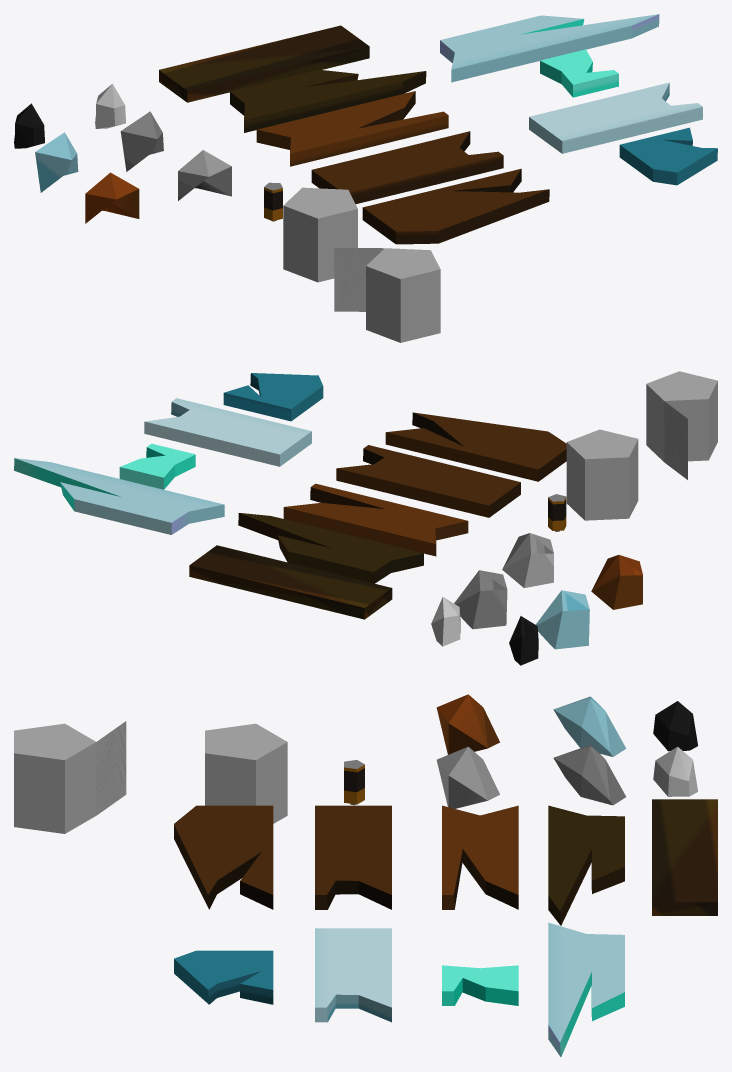
The model's file is Escombros.fbx.
The picture shows the model from 3 angles, top to bottom: view 1: azimuth 30°, elevation 25°; view 2: azimuth 150°, elevation 25°; view 3: azimuth 270°, elevation 25°; orthographic projection. The views are drawn at different scales.
Visible parts, largest first — view 1: Cylinder_001, Cube_003, Cube_004, Cube_008, Cube, Cube_001, Cube_002, Cube_006, Cylinder_002, Cube_005, Cube_007, Sphere_003 (+6 smaller); view 2: Cube_003, Cube_004, Cube_008, Cube, Cube_001, Cube_006, Cylinder_001, Cube_002, Cylinder_002, Cube_005, Sphere_004, Sphere_001 (+6 smaller); view 3: Cylinder_001, Cube_003, Cube_004, Cube, Cube_008, Cube_006, Cylinder_002, Cube_001, Cube_002, Cube_005, Cube_007, Sphere (+6 smaller).
Boxes of the visible parts, left/top/right/bottom form: Cylinder_001: left=334, top=248, right=440, bottom=342; Cube_003: left=362, top=168, right=549, bottom=244; Cube_004: left=159, top=25, right=369, bottom=102; Cube_008: left=440, top=14, right=659, bottom=82; Cube: left=311, top=131, right=503, bottom=203; Cube_001: left=256, top=91, right=448, bottom=166; Cube_002: left=230, top=69, right=426, bottom=132; Cube_006: left=529, top=82, right=702, bottom=153; Cylinder_002: left=283, top=187, right=357, bottom=282; Cube_005: left=619, top=127, right=717, bottom=185; Cube_007: left=540, top=49, right=618, bottom=97; Sphere_003: left=85, top=172, right=139, bottom=223; Cube_003: left=385, top=412, right=566, bottom=481; Cube_004: left=189, top=545, right=392, bottom=619; Cube_008: left=14, top=458, right=224, bottom=534; Cube: left=336, top=445, right=520, bottom=517; Cube_001: left=283, top=483, right=468, bottom=556; Cube_006: left=144, top=398, right=311, bottom=466; Cylinder_001: left=646, top=371, right=717, bottom=479; Cube_002: left=238, top=513, right=423, bottom=583; Cylinder_002: left=566, top=429, right=638, bottom=520; Cube_005: left=223, top=373, right=323, bottom=421; Sphere_004: left=535, top=590, right=589, bottom=649; Sphere_001: left=454, top=570, right=507, bottom=629; Cylinder_001: left=14, top=721, right=126, bottom=833; Cube_003: left=174, top=805, right=273, bottom=909; Cube_004: left=652, top=799, right=717, bottom=915; Cube: left=315, top=805, right=391, bottom=909; Cube_008: left=548, top=922, right=624, bottom=1056; Cube_006: left=315, top=928, right=391, bottom=1022; Cylinder_002: left=205, top=723, right=287, bottom=823; Cube_001: left=442, top=805, right=518, bottom=909; Cube_002: left=548, top=805, right=624, bottom=925; Cube_005: left=174, top=950, right=273, bottom=1004; Cube_007: left=442, top=965, right=518, bottom=1005; Sphere: left=436, top=746, right=499, bottom=808.
Size of the model in its own units: 6.74 by 0.7053 by 5.79.
